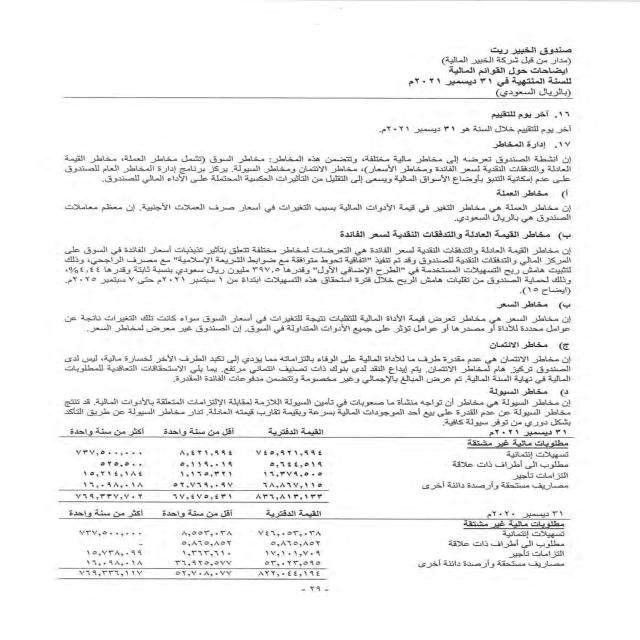notes: (439, 66, 573, 77)
table: (41, 424, 576, 506), (44, 514, 569, 595)
